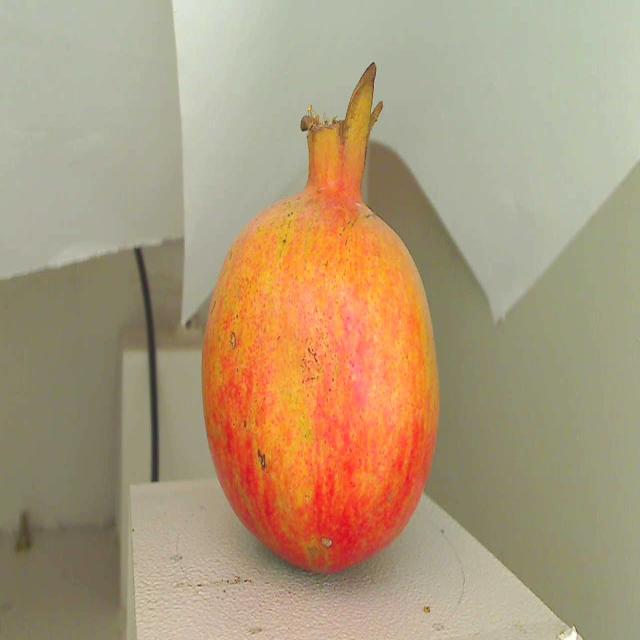pomegranate: (196, 87, 448, 572)
